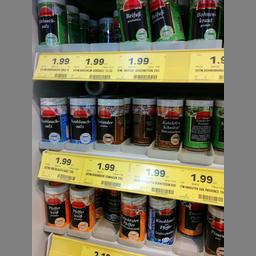spices: (184, 97, 213, 150), (36, 94, 68, 140), (114, 0, 150, 40), (118, 194, 145, 244), (34, 0, 64, 43), (156, 98, 180, 150), (148, 196, 174, 244), (68, 184, 94, 231), (68, 97, 94, 143), (96, 98, 123, 142), (42, 181, 66, 224), (132, 97, 154, 143)
